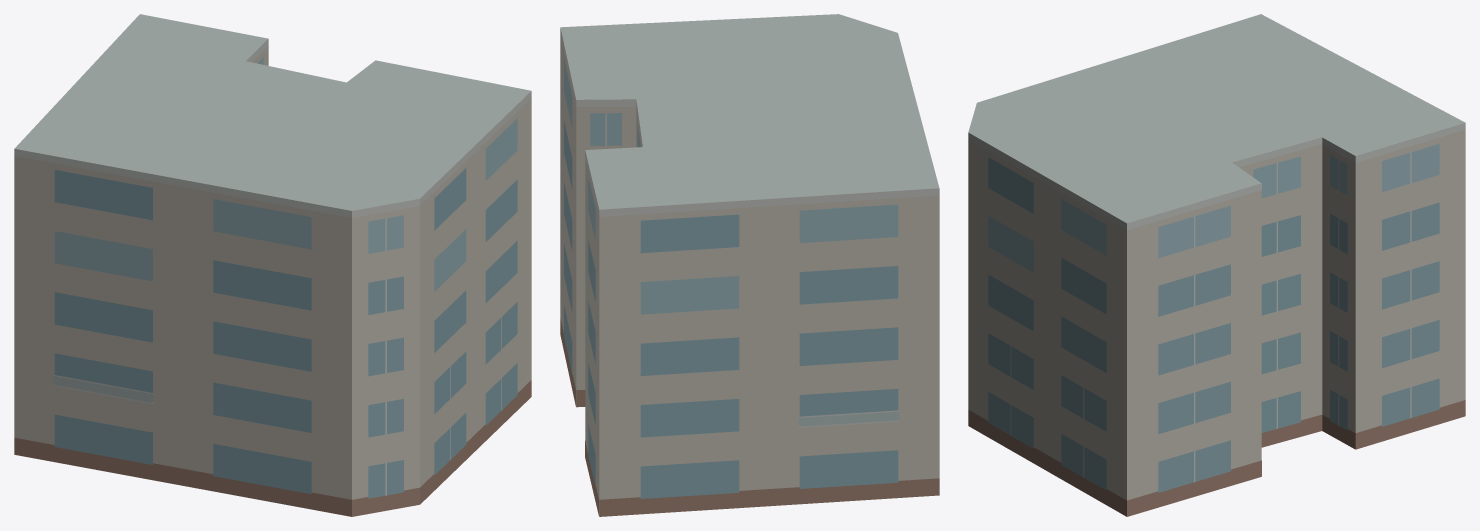
Rendered from survey-upis-32989132.glb.
3 views of the same model, side by side, from view 1: azimuth 30°, elevation 25°; view 2: azimuth 150°, elevation 25°; view 3: azimuth 270°, elevation 25° (orthographic). The views are drawn at different scales.
Parts seen in each view (by area): view 1: survey-upis-32989132.tmp; view 2: survey-upis-32989132.tmp; view 3: survey-upis-32989132.tmp.
Boxes of the visible parts, x1,y1,x2,y2 form: survey-upis-32989132.tmp: (14,14,531,516); survey-upis-32989132.tmp: (560,14,939,516); survey-upis-32989132.tmp: (968,14,1465,516).
Bounding box in the file's own units: 16.08 × 10.5 × 16.14.
